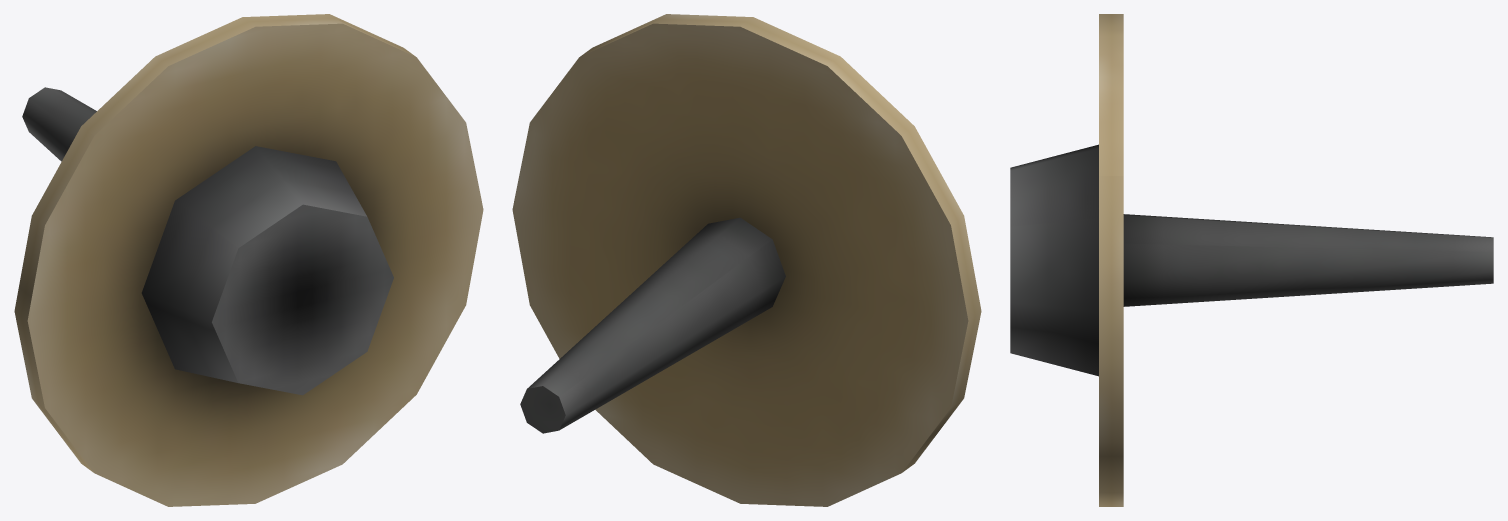
Rendered from Eridani_Antenna_1.obj.
3 views of the same model, side by side, from view 1: azimuth 30°, elevation 25°; view 2: azimuth 150°, elevation 25°; view 3: azimuth 270°, elevation 25° (orthographic). The views are drawn at different scales.
Visible parts, largest first — view 1: Eridani_Antenna_1; view 2: Eridani_Antenna_1; view 3: Eridani_Antenna_1.
Part boxes in pixels (box(x1,y1,x2,y2)): Eridani_Antenna_1: box(14, 14, 483, 506); Eridani_Antenna_1: box(512, 14, 981, 506); Eridani_Antenna_1: box(1010, 14, 1493, 506).
Bounding box in the file's own units: 0.125 × 0.125 × 0.1225.
